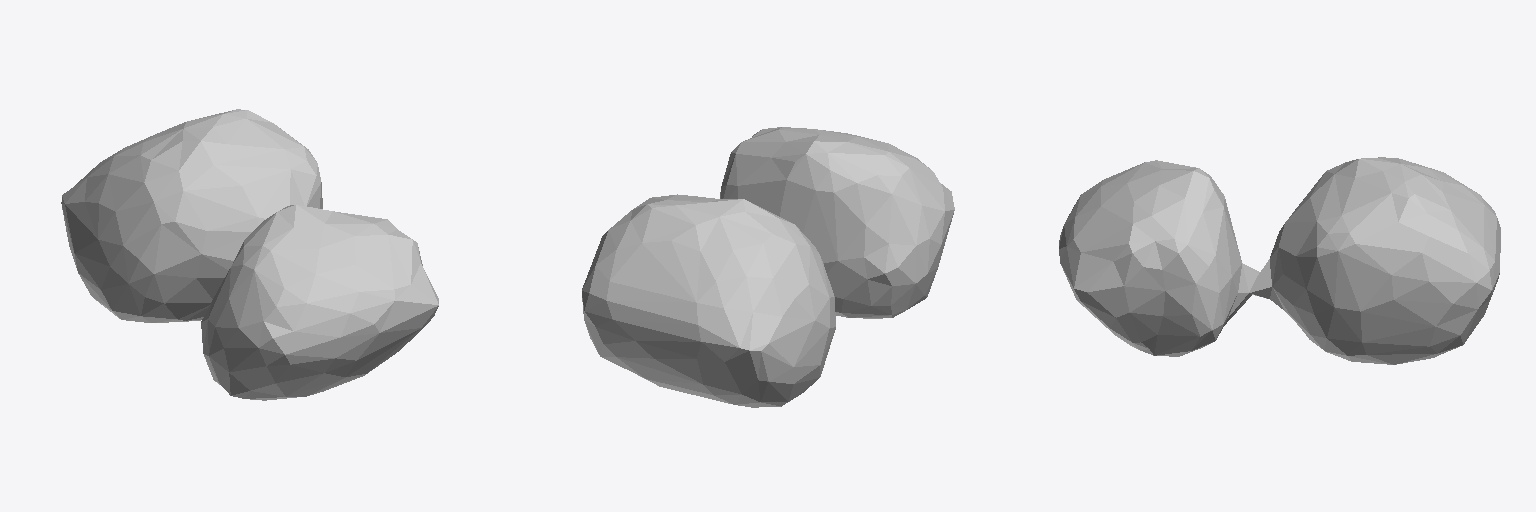
The model's file is MammillaryBodies.obj.
3 views of the same model, side by side, from view 1: azimuth 30°, elevation 25°; view 2: azimuth 150°, elevation 25°; view 3: azimuth 270°, elevation 25° (orthographic).
Visible parts, largest first — view 1: Mamillary-bodies_mamillary-bodies; view 2: Mamillary-bodies_mamillary-bodies; view 3: Mamillary-bodies_mamillary-bodies.
Part boxes in pixels (left/top/right/bottom): Mamillary-bodies_mamillary-bodies: left=61, top=109, right=438, bottom=400; Mamillary-bodies_mamillary-bodies: left=582, top=127, right=954, bottom=407; Mamillary-bodies_mamillary-bodies: left=1059, top=157, right=1500, bottom=364.
Bounding box in the file's own units: 7.7 × 6.36 × 14.2.